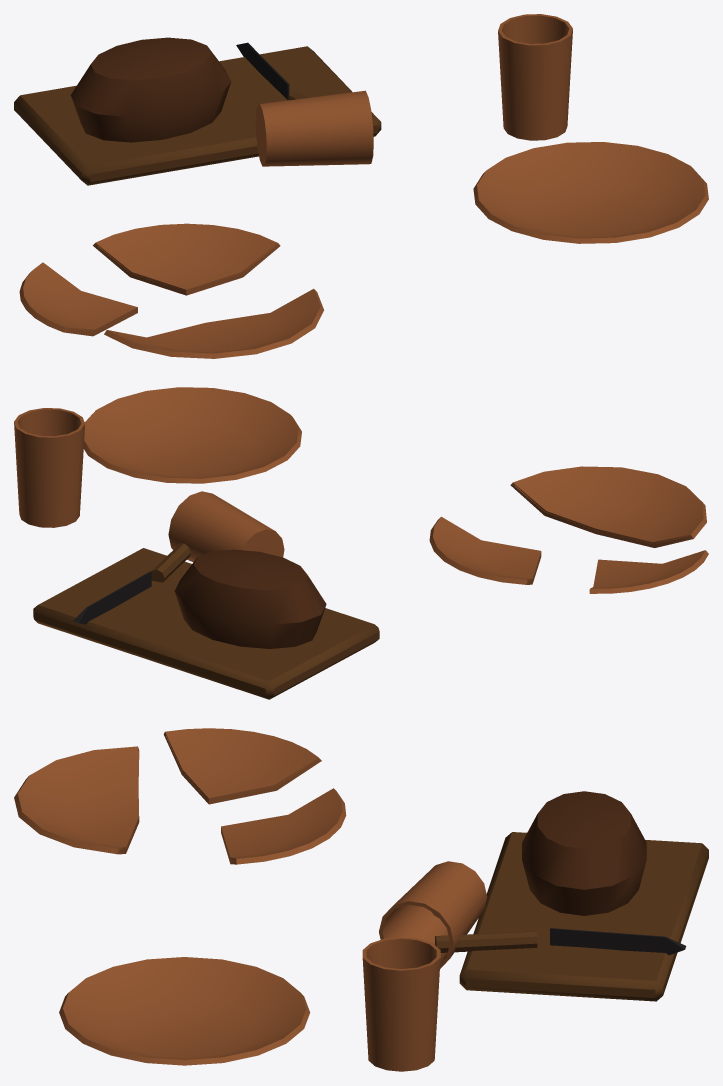
Rendered from geschirr_kaputt.glb.
3 renders of one model, top to bottom at view 1: azimuth 30°, elevation 25°; view 2: azimuth 150°, elevation 25°; view 3: azimuth 270°, elevation 25°, orthographic. The views are drawn at different scales.
Parts seen in each view (by area): view 1: geschirr_kaputt; view 2: geschirr_kaputt; view 3: geschirr_kaputt.
Part boxes in pixels (x1,y1,x2,y2): geschirr_kaputt: (14, 14, 708, 358); geschirr_kaputt: (14, 387, 708, 699); geschirr_kaputt: (14, 728, 708, 1071).
Size of the model in its own units: 0.6939 by 0.1 by 0.6086.
